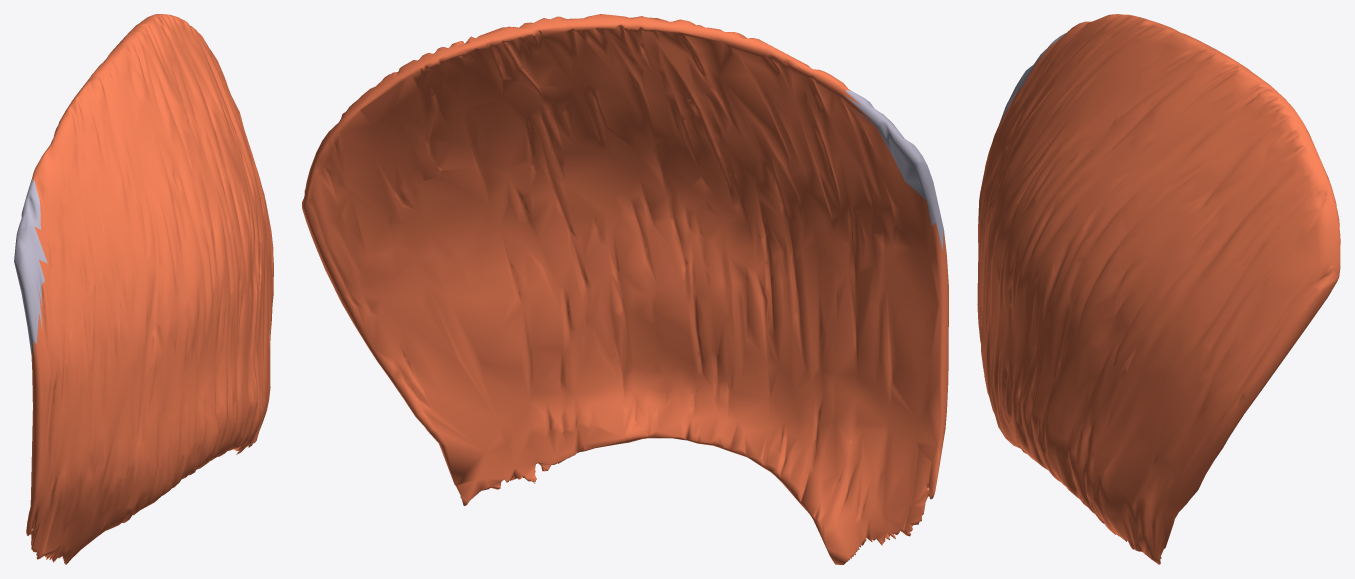
The model's file is Frontalis.l_Generated_Mesh_From_X3D.491.glb.
3 views of the same model, side by side, from view 1: azimuth 30°, elevation 25°; view 2: azimuth 150°, elevation 25°; view 3: azimuth 270°, elevation 25° (orthographic). The views are drawn at different scales.
Visible parts, largest first — view 1: Frontalis.l_Generated_Mesh_From_X3D.491; view 2: Frontalis.l_Generated_Mesh_From_X3D.491; view 3: Frontalis.l_Generated_Mesh_From_X3D.491.
Part boxes in pixels (box(x1,y1,x2,y2)): Frontalis.l_Generated_Mesh_From_X3D.491: box(14, 14, 273, 564); Frontalis.l_Generated_Mesh_From_X3D.491: box(302, 14, 948, 564); Frontalis.l_Generated_Mesh_From_X3D.491: box(977, 14, 1340, 564).
Size of the model in its own units: 0.0584 by 0.0701 by 0.0469.
